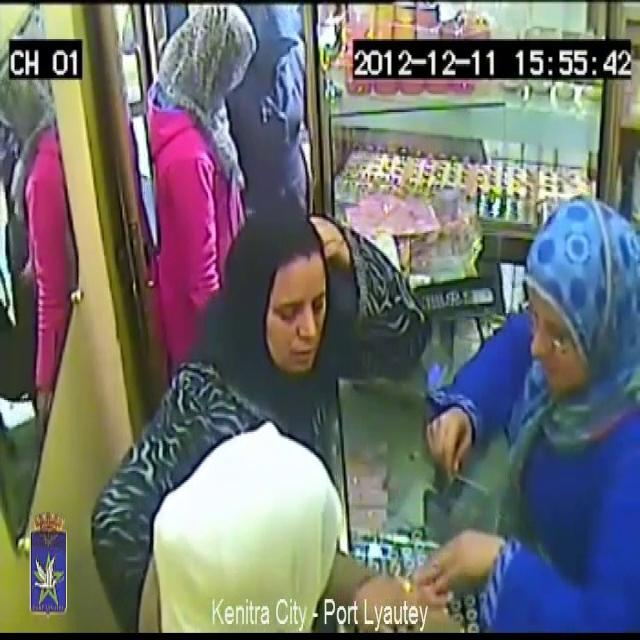Product: (385, 542, 432, 602)
normal: (426, 188, 640, 638), (142, 0, 243, 332), (214, 178, 345, 396), (228, 0, 314, 192)
shoplifting: (94, 389, 458, 640)
